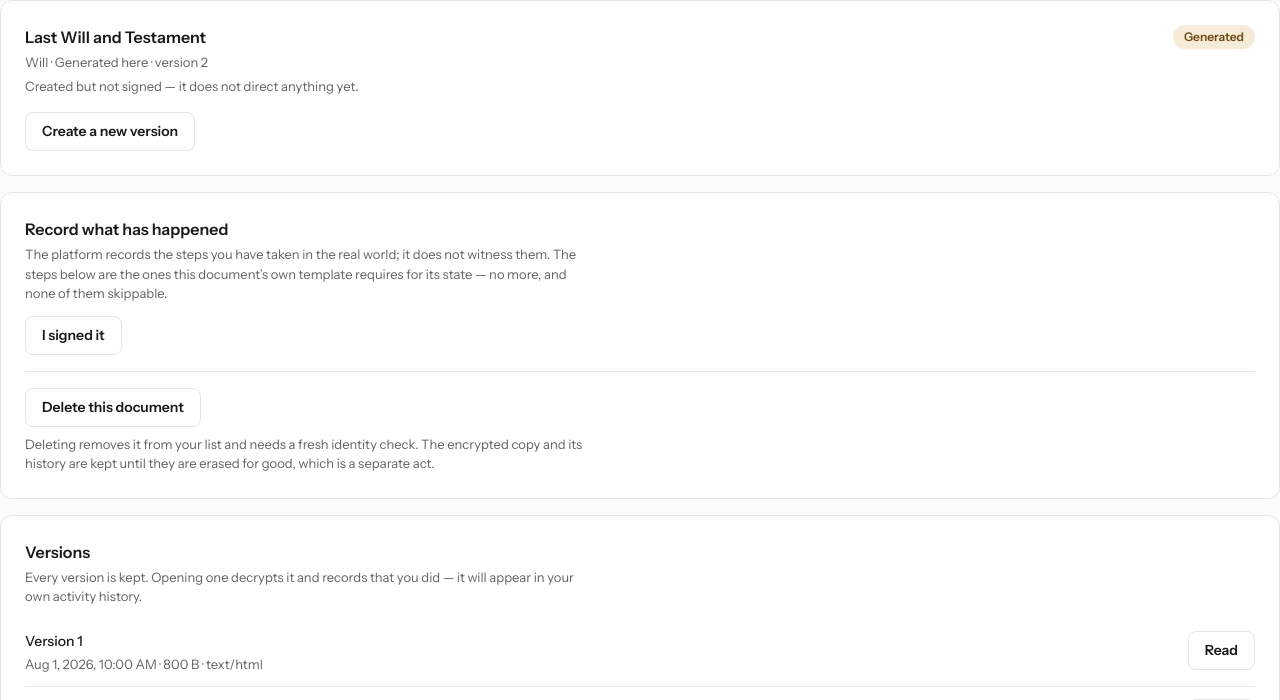
it: the execution ladder is the server’s, not this page’s › renders the ladder the transition RETURNED, without a second read
Click the button "I signed it": click(73, 335) [25, 316, 122, 354]
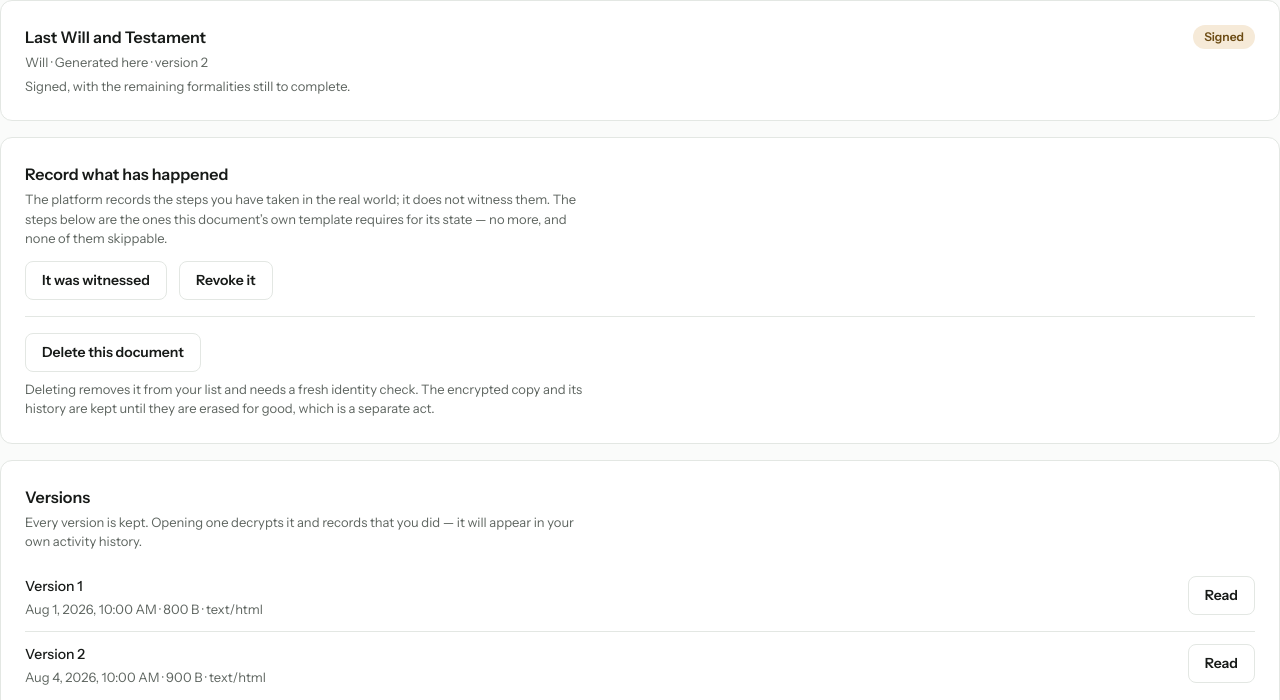
Now the button "It was witnessed" is shown, box [25, 260, 167, 300]
Now the button "I signed it" is gone
